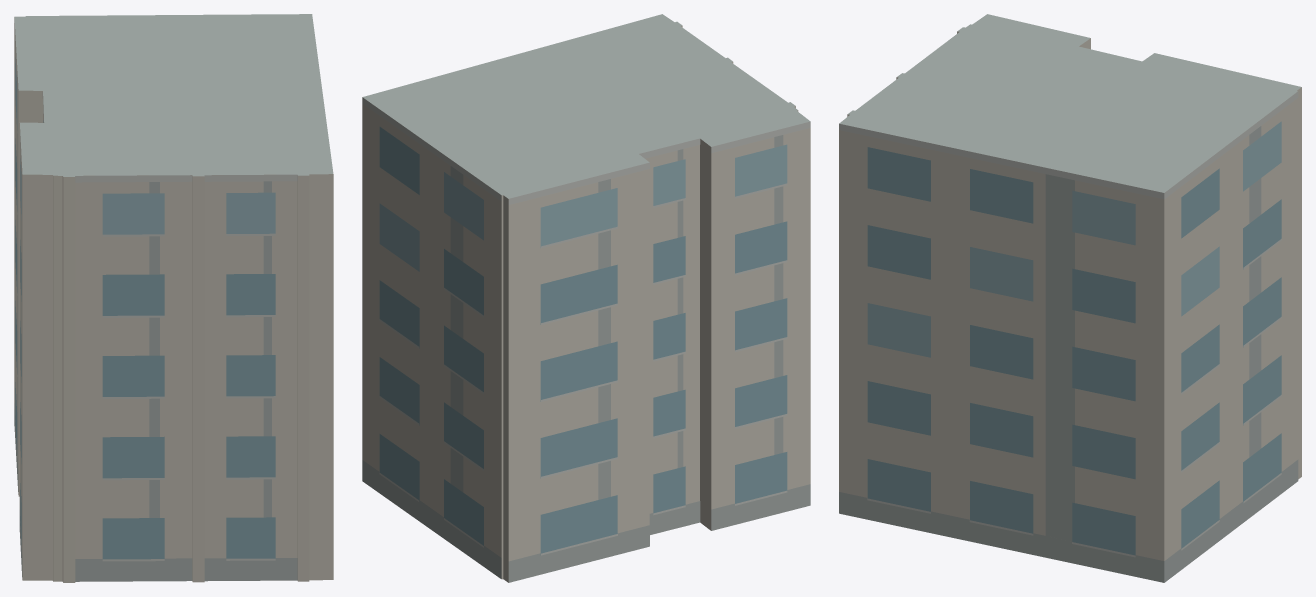
File: survey-upis-32842969.glb
3 views of the same model, side by side, from view 1: azimuth 30°, elevation 25°; view 2: azimuth 150°, elevation 25°; view 3: azimuth 270°, elevation 25° (orthographic). The views are drawn at different scales.
Visible parts, largest first — view 1: survey-upis-32842969.tmp; view 2: survey-upis-32842969.tmp; view 3: survey-upis-32842969.tmp.
Part boxes in pixels (<box>): survey-upis-32842969.tmp: <box>14,14,333,582</box>; survey-upis-32842969.tmp: <box>362,14,810,582</box>; survey-upis-32842969.tmp: <box>839,14,1301,582</box>.
Size of the model in its own units: 14.58 by 14.8 by 15.93.
